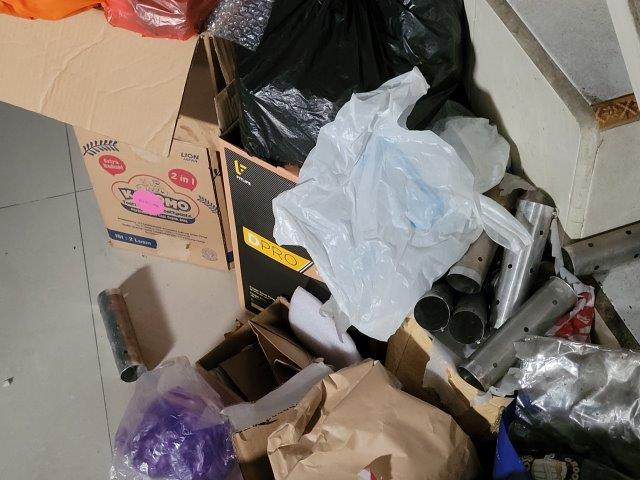kardus: (1, 13, 233, 271), (229, 141, 376, 364), (194, 299, 339, 461)
plastik: (273, 71, 527, 333), (237, 1, 467, 157), (109, 353, 238, 480)
